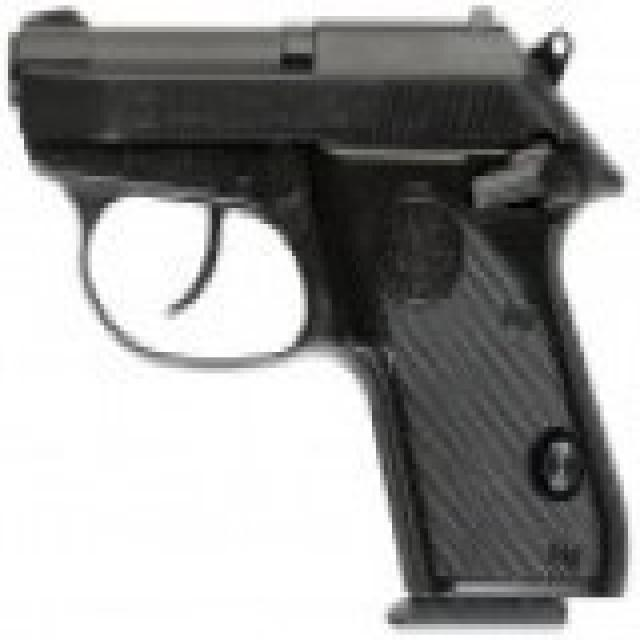Gun: (9, 9, 613, 587)
